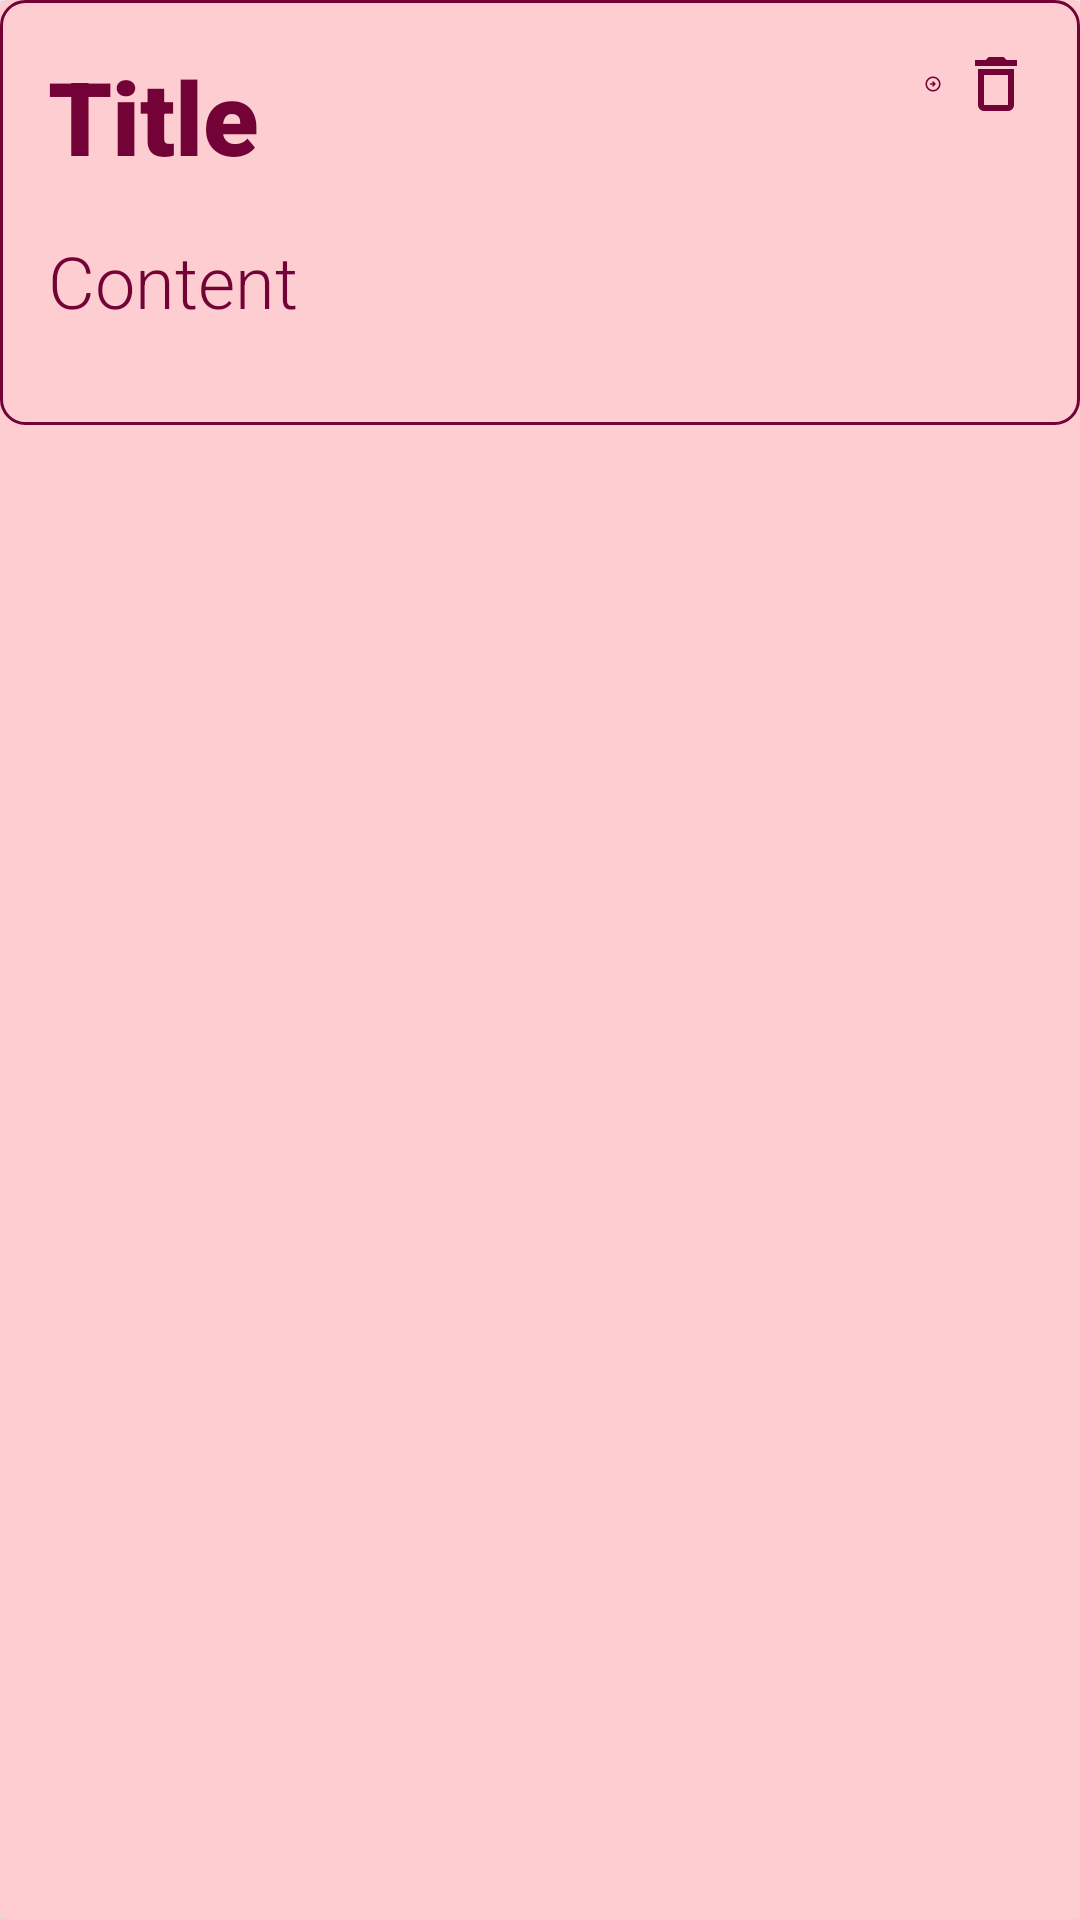

Locate icon controls on the screen. Image size 1080×1920, boxes as (x1, y1, x2, y2).
delete: (975, 57, 1017, 111)
